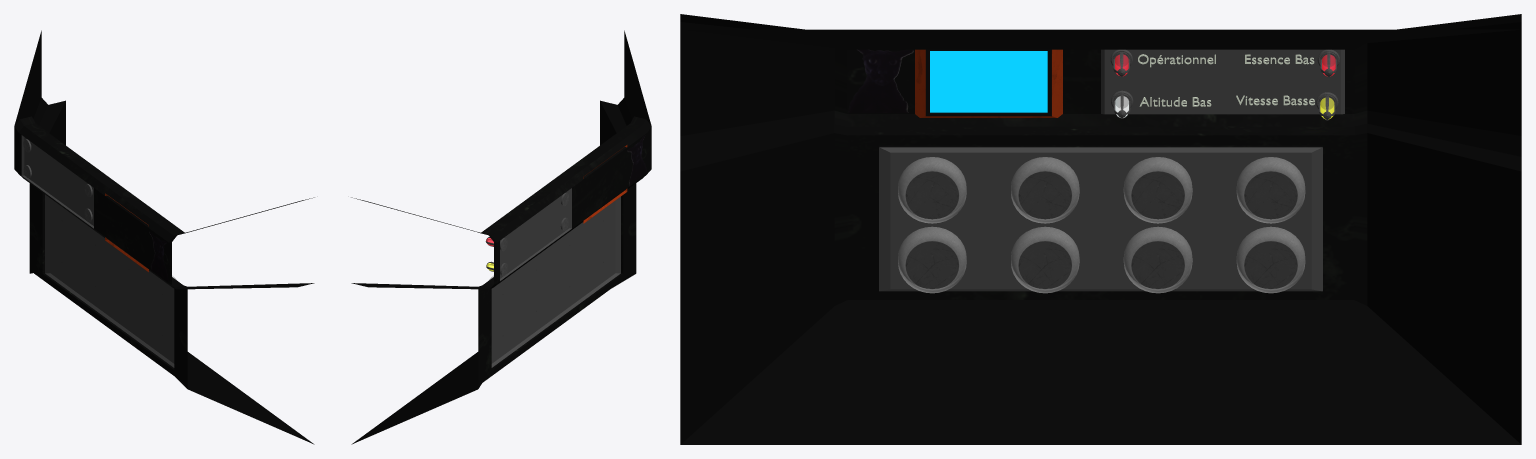
File: Cocpit.glb
The picture shows the model from 3 angles, left to right: view 1: azimuth 30°, elevation 25°; view 2: azimuth 150°, elevation 25°; view 3: azimuth 270°, elevation 25°; orthographic projection. The views are drawn at different scales.
Visible parts, largest first — view 1: Dashboard; view 2: Dashboard; view 3: Dashboard, Circle, Screen.
Part boxes in pixels (x1,y1,x2,y2): Dashboard: (14, 30, 314, 444); Dashboard: (351, 30, 651, 444); Dashboard: (680, 14, 1521, 444); Circle: (898, 157, 1305, 293); Screen: (915, 49, 1062, 117).
Bounding box in the file's own units: 2.07 × 4.86 × 8.87.
Materials: 12 (9 with a texture image).
